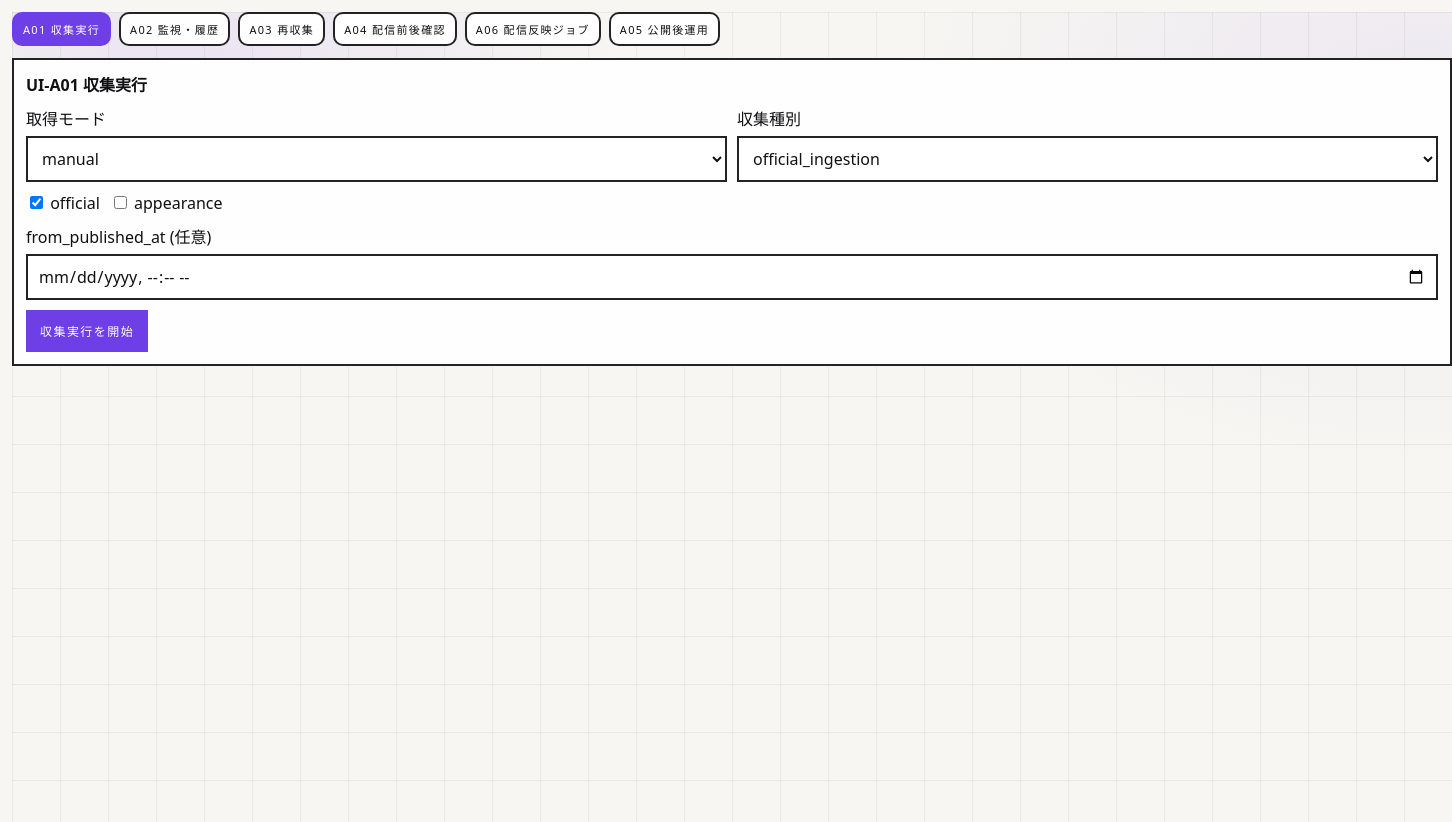
it: AdminPanel › [UT-PW-FE-UI-A06-C001] A06 starts docs publish and fetches docs run status
Click the tab "A06 配信反映ジョブ": (533, 29) left=465, top=12, right=601, bottom=46
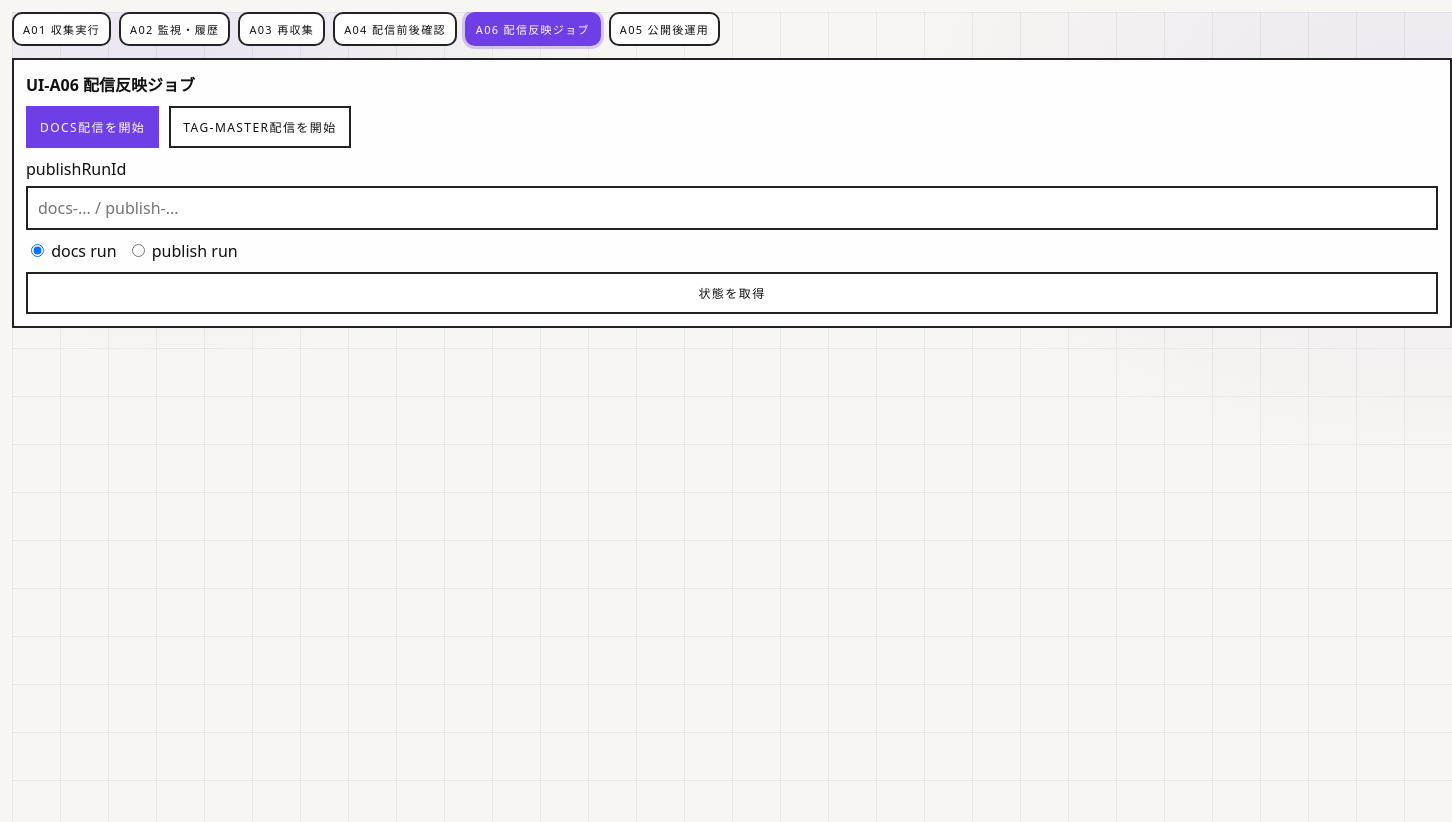
Click the button "Docs配信を開始": (93, 127) left=26, top=106, right=159, bottom=148
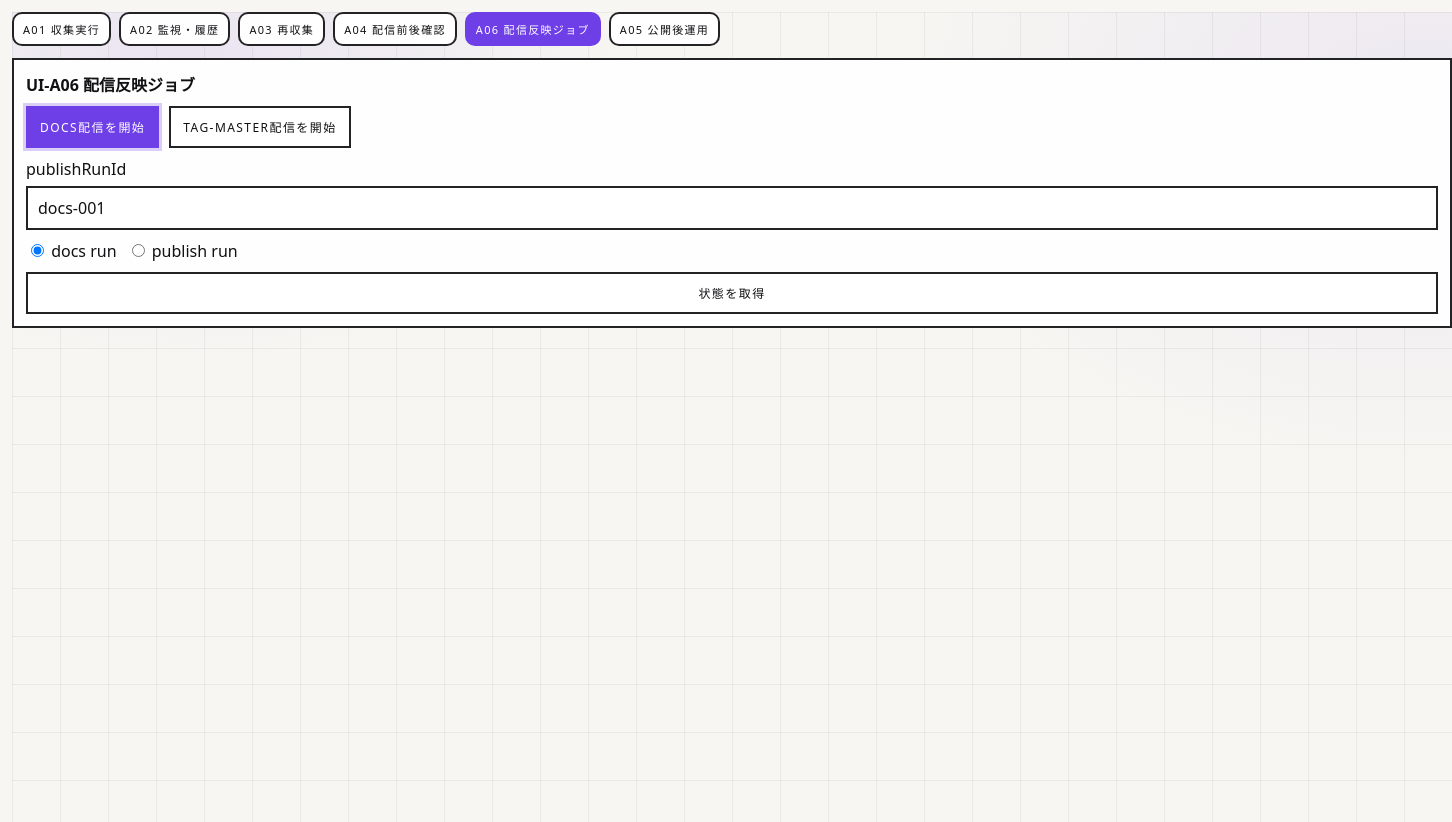
Click the button "状態を取得": (732, 293) left=26, top=272, right=1438, bottom=314
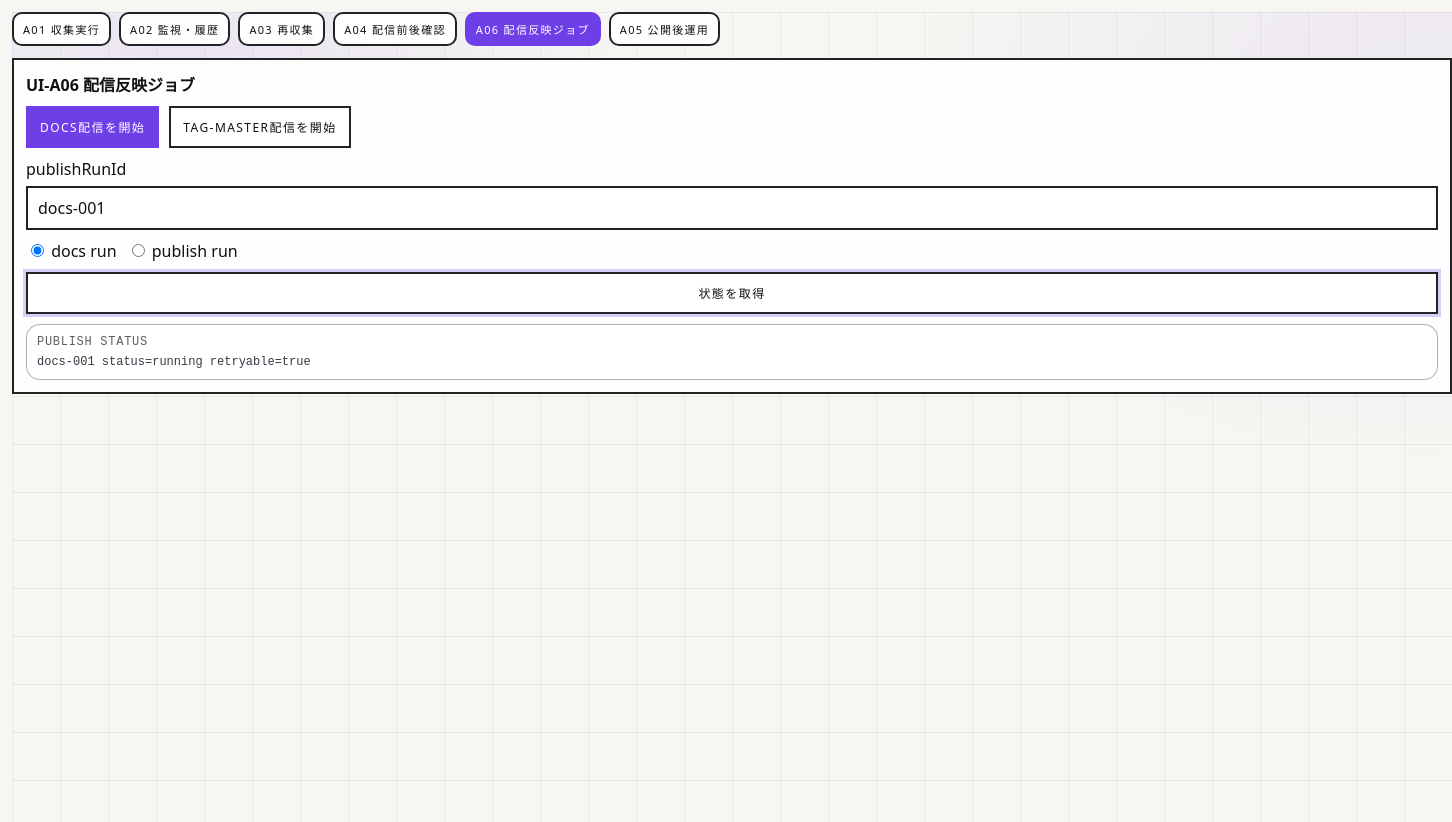
expect the text "docs-001 status=running retryable=true" is shown: met, box left=37, top=355, right=311, bottom=369
